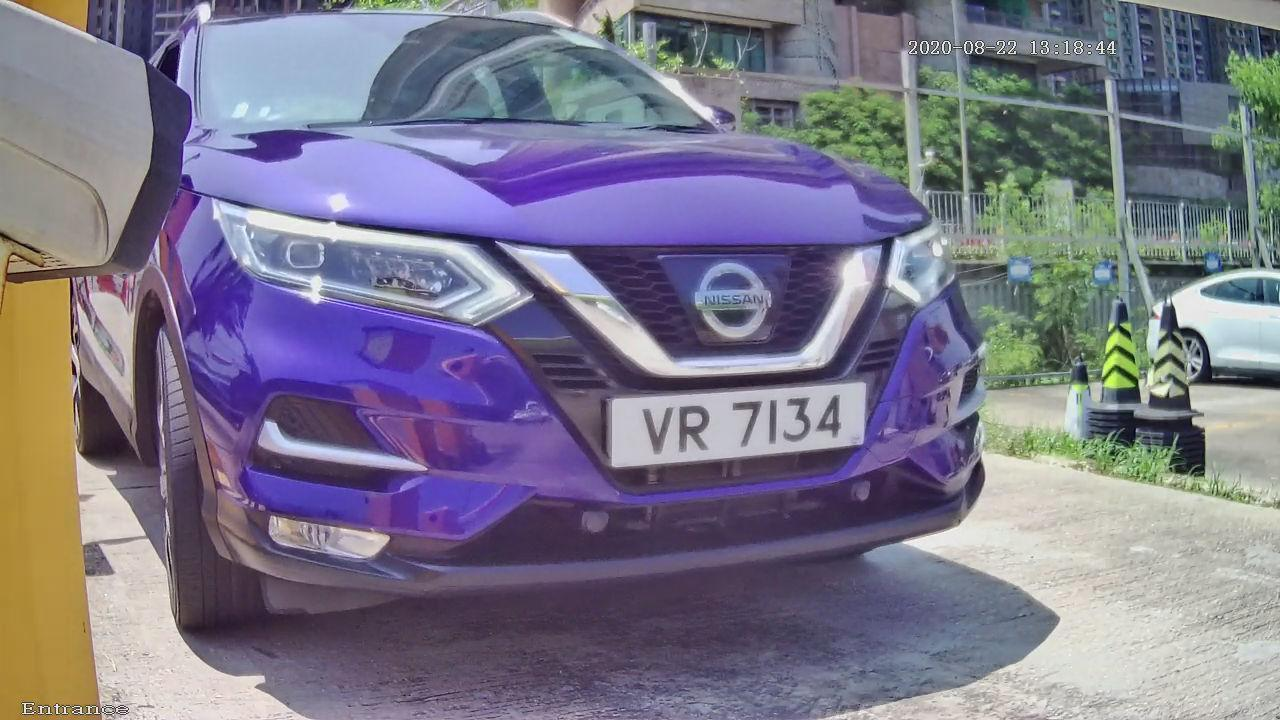Car: (52, 23, 1069, 653)
License Plate: (483, 342, 1002, 508)
